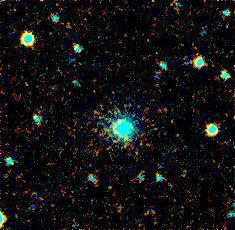star: (212, 11, 235, 41)
